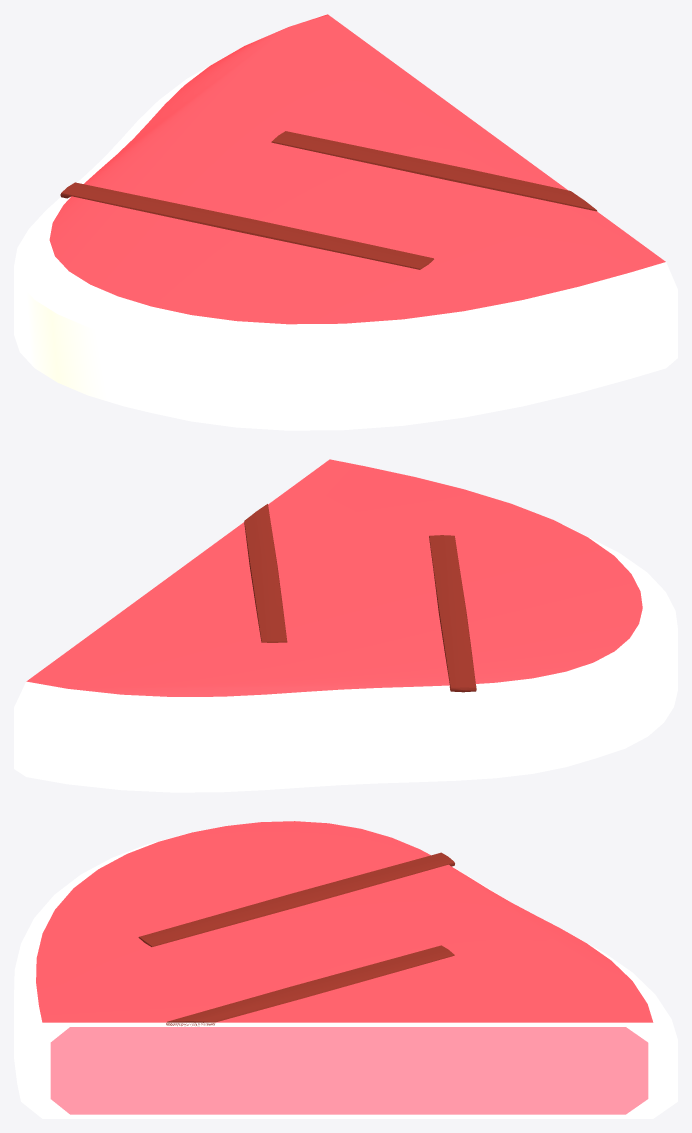
3 renders of one model, top to bottom at view 1: azimuth 30°, elevation 25°; view 2: azimuth 150°, elevation 25°; view 3: azimuth 270°, elevation 25°, orthographic. The views are drawn at different scales.
Visible parts, largest first — view 1: Steak-left; view 2: Steak-left; view 3: Steak-left.
Part boxes in pixels (x1=…): Steak-left: x1=14, y1=14, x2=677, y2=430; Steak-left: x1=14, y1=459, x2=677, y2=792; Steak-left: x1=14, y1=821, x2=677, y2=1118.
Bounding box in the file's own units: 0.0302 × 0.00638 × 0.039.
